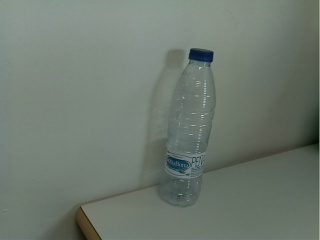botella plastico: (158, 46, 220, 210)
